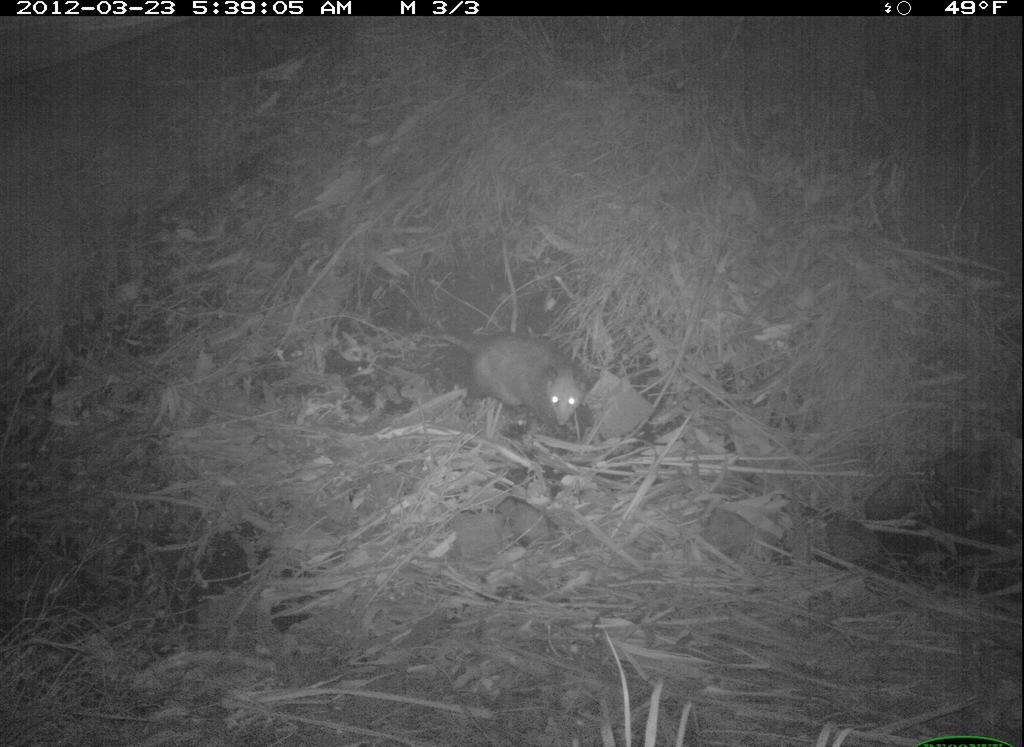opossum: (420, 306, 606, 446)
